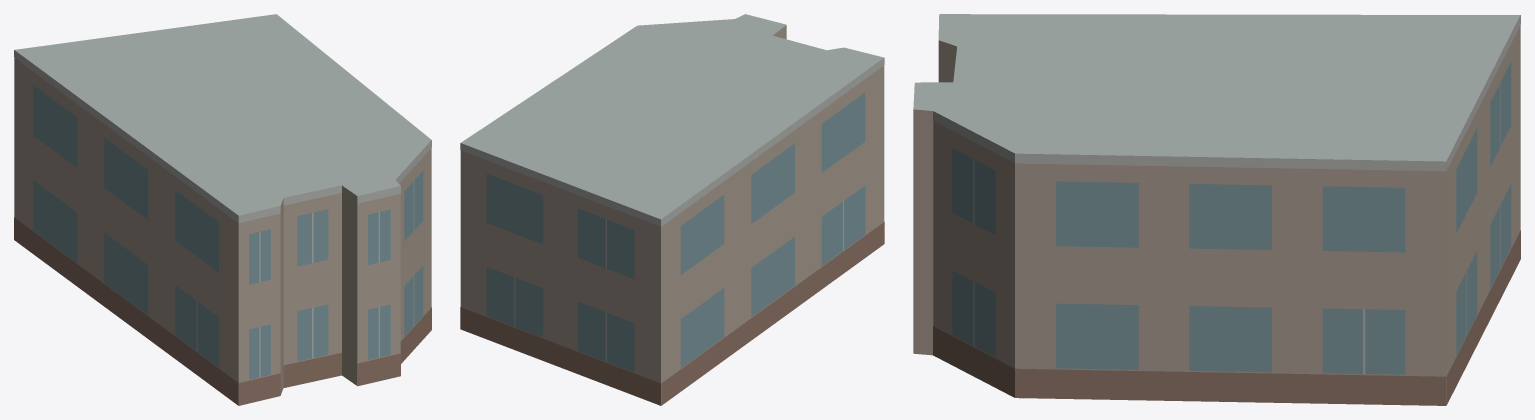
Rendered from survey-upis-32680606.glb.
3 views of the same model, side by side, from view 1: azimuth 30°, elevation 25°; view 2: azimuth 150°, elevation 25°; view 3: azimuth 270°, elevation 25° (orthographic). The views are drawn at different scales.
Parts seen in each view (by area): view 1: survey-upis-32680606.tmp; view 2: survey-upis-32680606.tmp; view 3: survey-upis-32680606.tmp.
Boxes of the visible parts, <box> form: survey-upis-32680606.tmp: <box>14,14,431,405</box>; survey-upis-32680606.tmp: <box>460,14,884,405</box>; survey-upis-32680606.tmp: <box>913,14,1520,405</box>.
Bounding box in the file's own units: 7.91 × 6.1 × 13.75.
